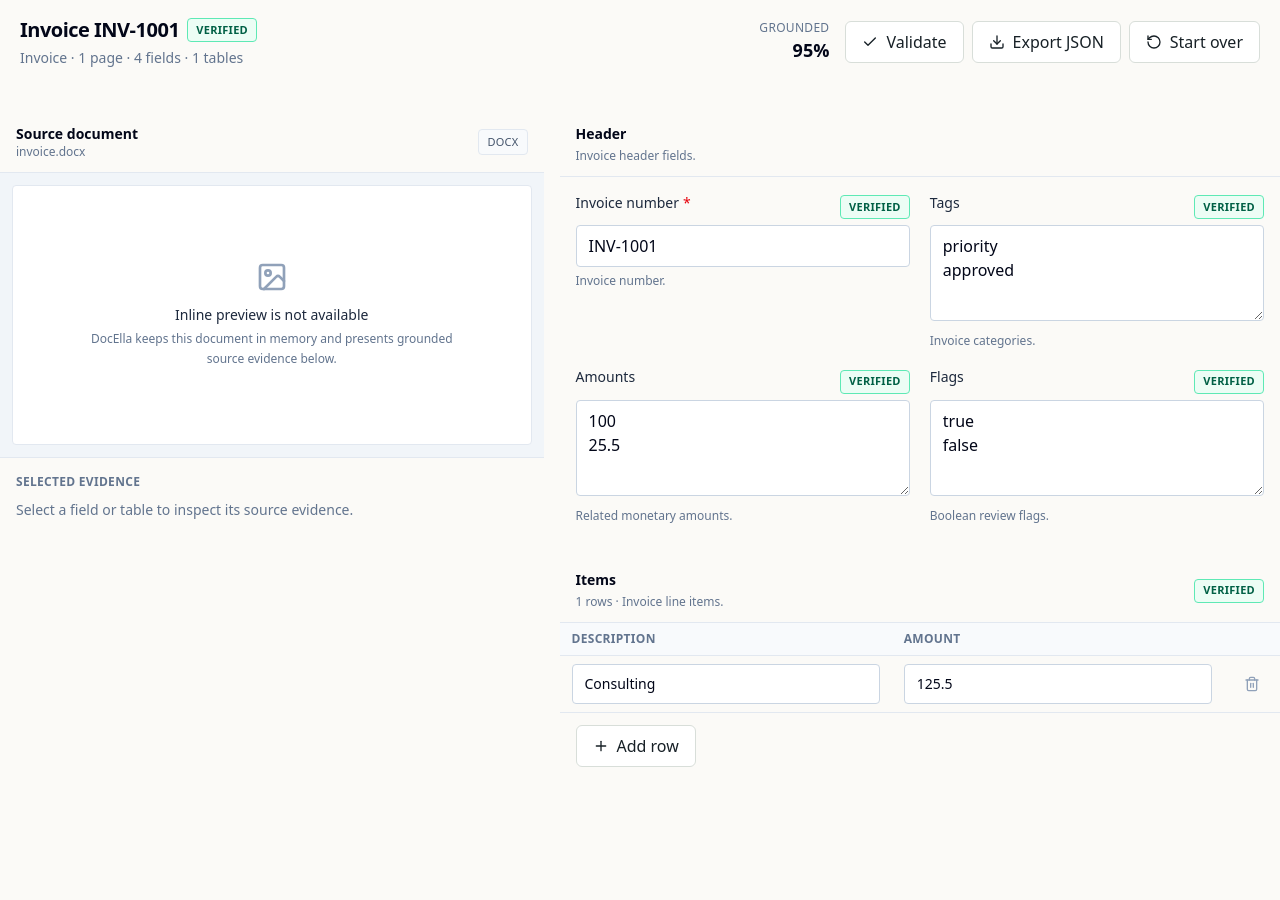
Test: generic document review › marks table edits and supports adding and removing rows
The width and height of the screenshot is (1280, 900).
Check: the text "1 rows · Invoice line items." is shown, box [576,594,723,610]
Click the button "Add row": (636, 746) [576,724,696,766]
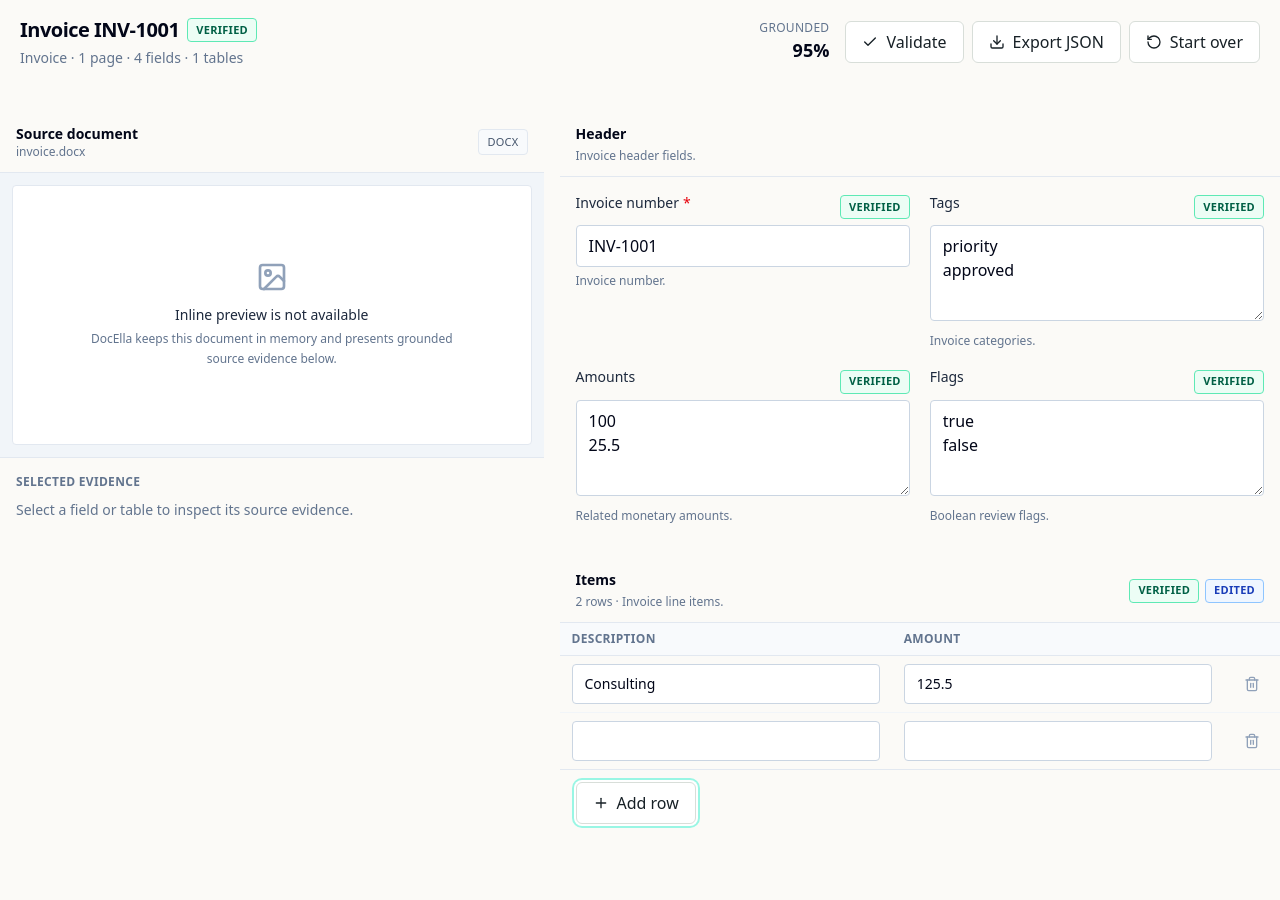
Check: the text "2 rows · Invoice line items." is shown, box [576,594,723,610]
Check: the text "Edited" is shown, box [1205,579,1264,603]
Click the button named "Remove row 2": (1252, 740) [1236,724,1268,756]
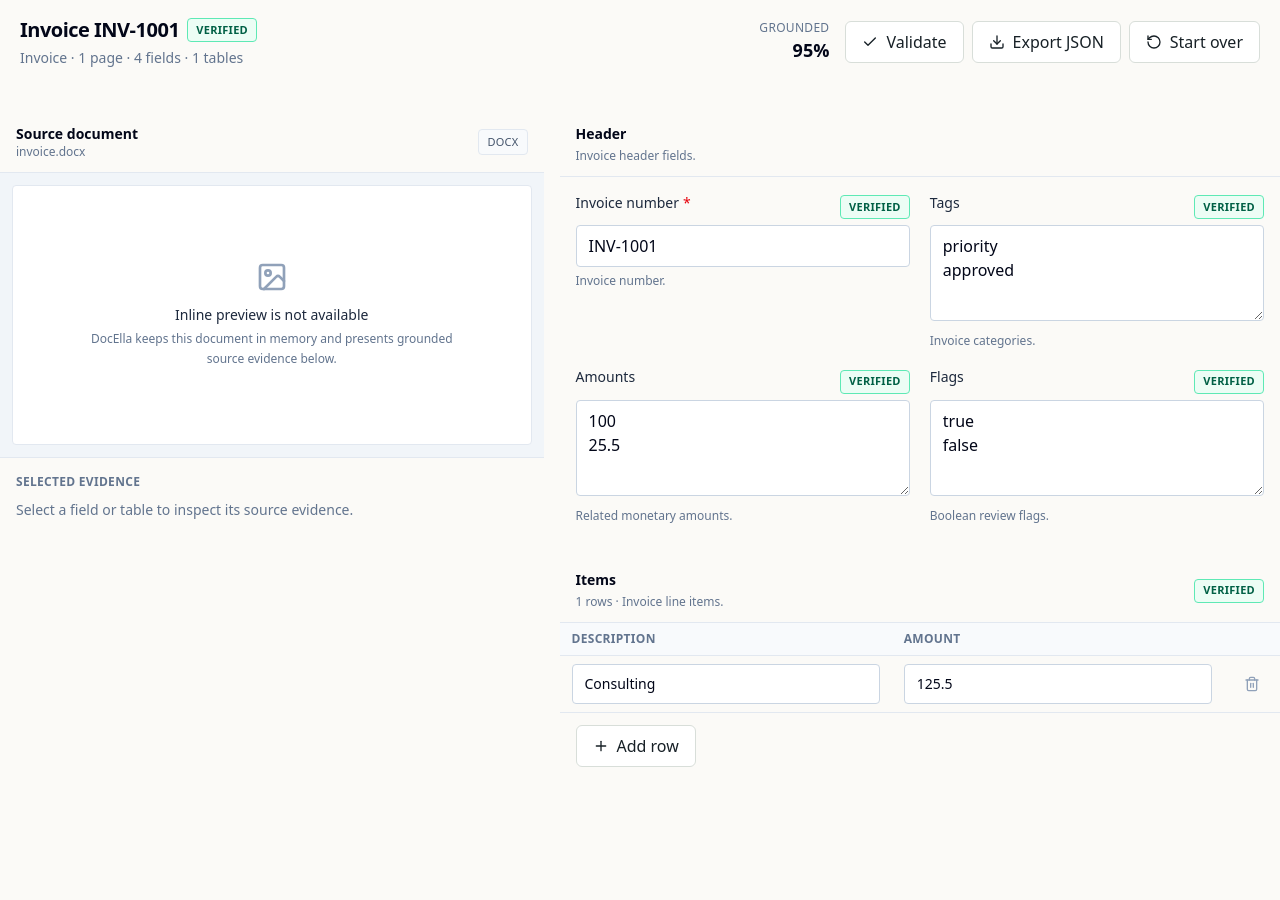
Check: the text "1 rows · Invoice line items." is shown, box [576,594,723,610]
